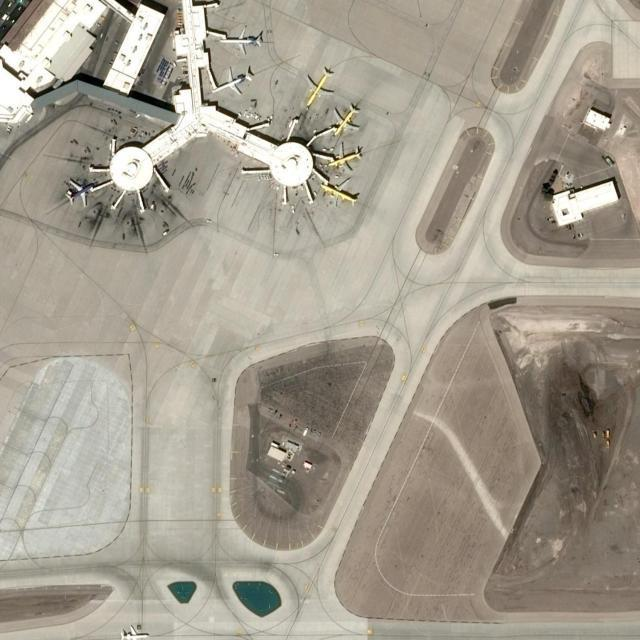Aircraft: (220, 26, 264, 54), (321, 177, 361, 207), (213, 66, 253, 96), (306, 67, 335, 108), (328, 142, 364, 172), (332, 102, 362, 136), (65, 177, 95, 207)
